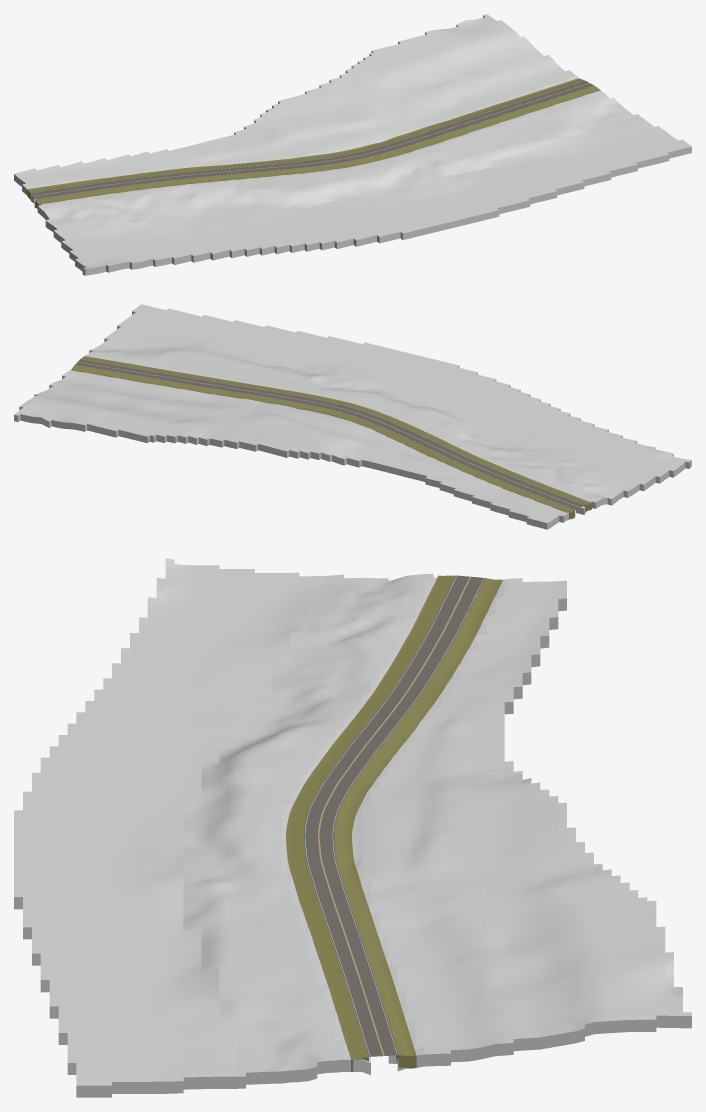
The model's file is conz_90.glb.
The picture shows the model from 3 angles, top to bottom: view 1: azimuth 30°, elevation 25°; view 2: azimuth 150°, elevation 25°; view 3: azimuth 270°, elevation 25°; orthographic projection. The views are drawn at different scales.
Parts seen in each view (by area): view 1: terrain90, road90, verge90R, verge90L, paint_yellow90, paint_white90; view 2: terrain90, road90, verge90L, verge90R, paint_yellow90, paint_white90; view 3: terrain90, road90, verge90L, verge90R, paint_white90, paint_yellow90.
Boxes of the visible parts, x1=… form: terrain90: x1=14, y1=14, x2=691, y2=275; road90: x1=30, y1=80, x2=594, y2=199; verge90R: x1=35, y1=86, x2=600, y2=208; verge90L: x1=27, y1=78, x2=584, y2=199; paint_yellow90: x1=33, y1=83, x2=589, y2=196; paint_white90: x1=31, y1=82, x2=590, y2=199; terrain90: x1=14, y1=304, x2=691, y2=529; road90: x1=75, y1=359, x2=584, y2=509; verge90L: x1=71, y1=365, x2=574, y2=519; verge90R: x1=81, y1=356, x2=591, y2=511; paint_yellow90: x1=78, y1=362, x2=579, y2=507; paint_white90: x1=76, y1=359, x2=583, y2=509; terrain90: x1=14, y1=558, x2=691, y2=1097; road90: x1=303, y1=575, x2=485, y2=1056; verge90L: x1=334, y1=578, x2=502, y2=1068; verge90R: x1=286, y1=575, x2=455, y2=1071; paint_white90: x1=305, y1=575, x2=484, y2=1056; paint_yellow90: x1=318, y1=577, x2=470, y2=1055.
Size of the model in its own units: 278 by 12.73 by 152.
